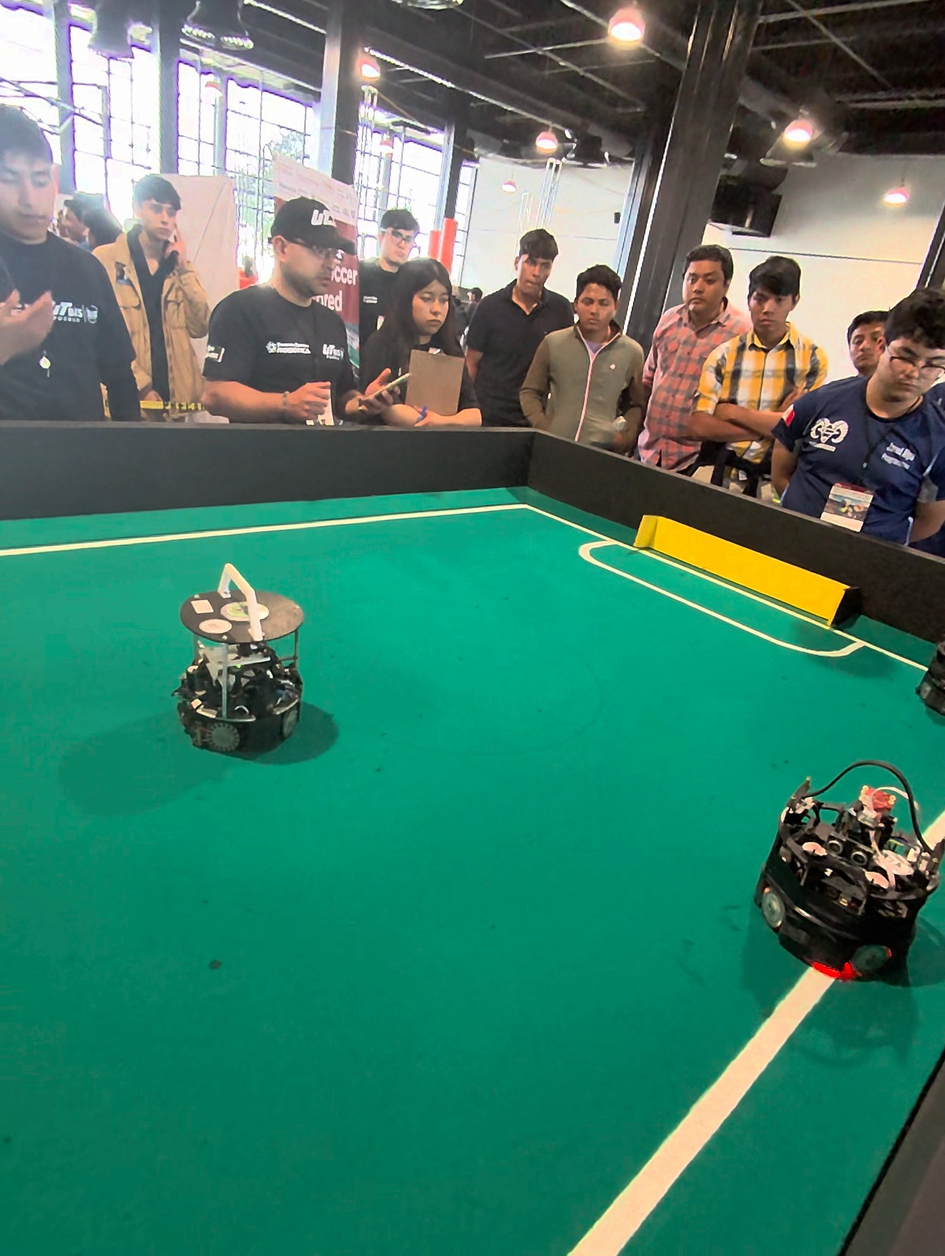Robot: (757, 742, 944, 996), (169, 564, 311, 774), (917, 621, 945, 729)
